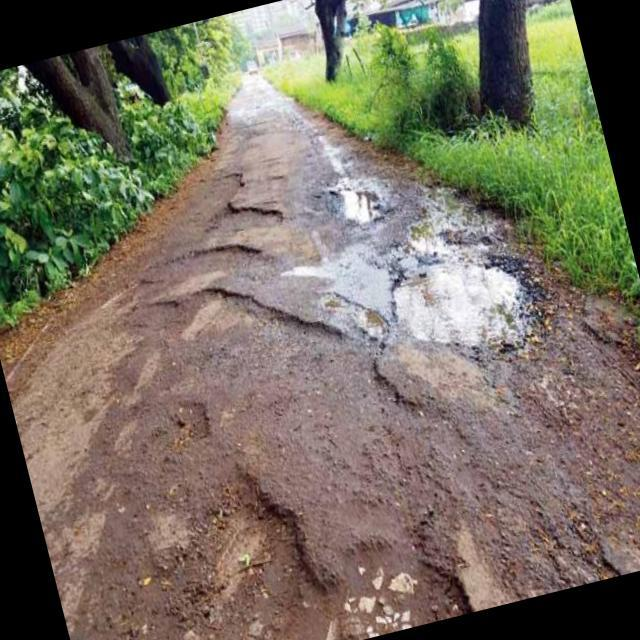Pothole: (66, 393, 503, 640), (352, 190, 567, 395), (139, 238, 373, 420), (143, 211, 288, 313), (120, 361, 242, 472), (316, 148, 410, 248), (313, 266, 401, 372), (200, 178, 294, 248), (203, 152, 257, 210)
